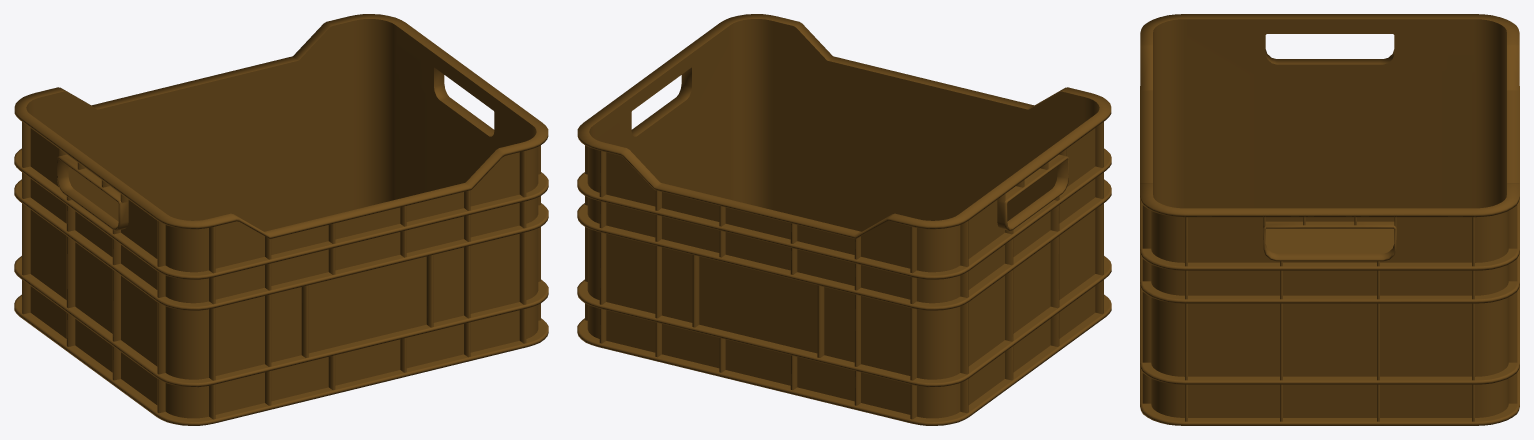
Rendered from plastic_crate_02.glb.
3 renders of one model, left to right at view 1: azimuth 30°, elevation 25°; view 2: azimuth 150°, elevation 25°; view 3: azimuth 270°, elevation 25°, orthographic. The views are drawn at different scales.
Size of the model in its own units: 0.5055 by 0.2541 by 0.4055.
